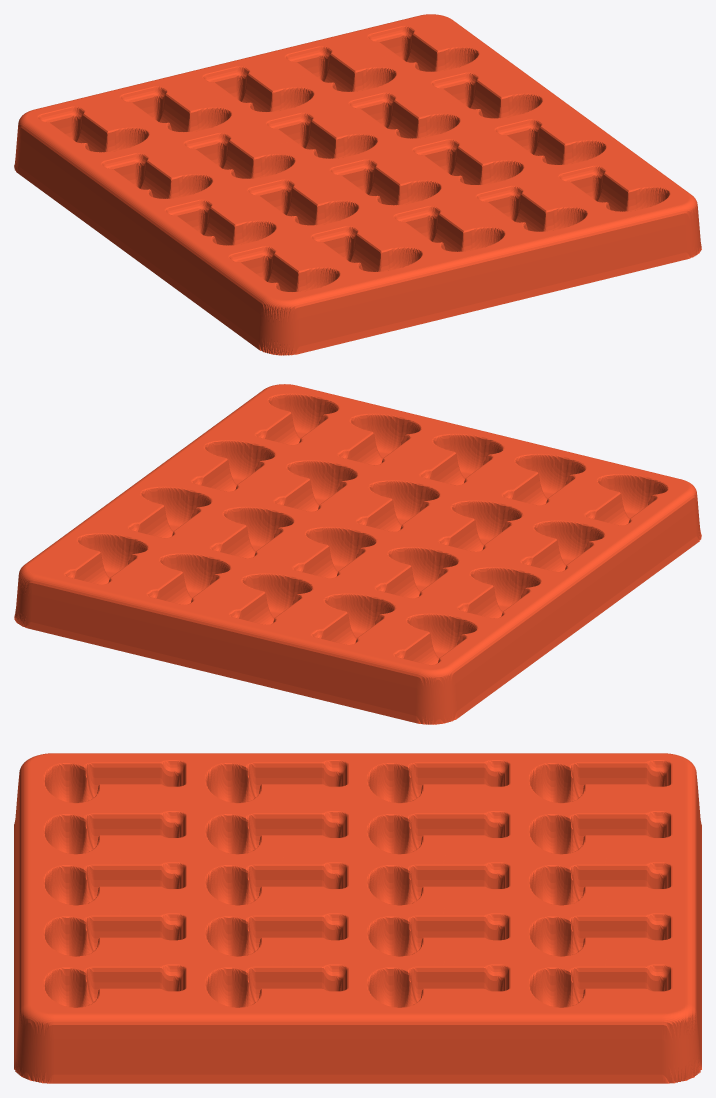
The model's file is mold.glb.
3 renders of one model, top to bottom at view 1: azimuth 30°, elevation 25°; view 2: azimuth 150°, elevation 25°; view 3: azimuth 270°, elevation 25°, orthographic. The views are drawn at different scales.
Visible parts, largest first — view 1: geometry_0; view 2: geometry_0; view 3: geometry_0.
Boxes of the visible parts, x1,y1,x2,y2 form: geometry_0: [14, 14, 701, 355]; geometry_0: [14, 384, 701, 724]; geometry_0: [14, 753, 701, 1083].
Size of the model in its own units: 0.1467 by 0.0159 by 0.1563.
